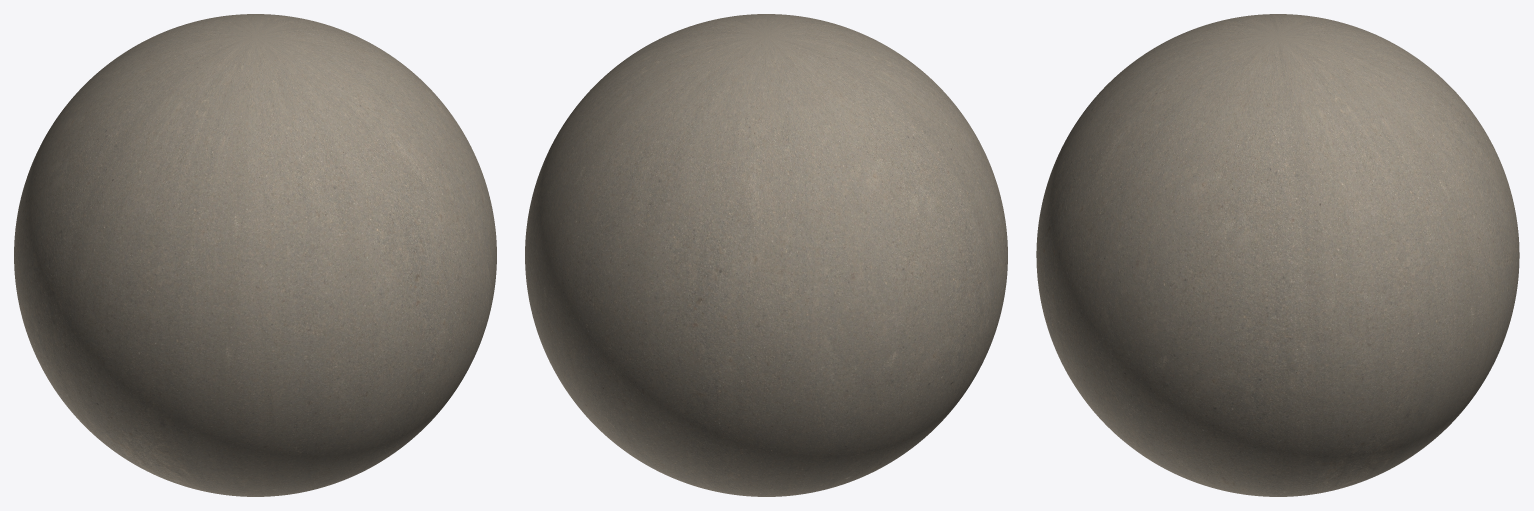
Rendered from asphalt_06_1k.gltf.
The picture shows the model from 3 angles, left to right: view 1: azimuth 30°, elevation 25°; view 2: azimuth 150°, elevation 25°; view 3: azimuth 270°, elevation 25°; orthographic projection.
Parts seen in each view (by area): view 1: sphere_gltf; view 2: sphere_gltf; view 3: sphere_gltf.
Boxes of the visible parts, left/top/right/bottom form: sphere_gltf: left=14, top=14, right=496, bottom=496; sphere_gltf: left=525, top=14, right=1007, bottom=496; sphere_gltf: left=1036, top=14, right=1519, bottom=496.
Bounding box in the file's own units: 2 × 2 × 2.
Materials: 1 (1 with a texture image).
